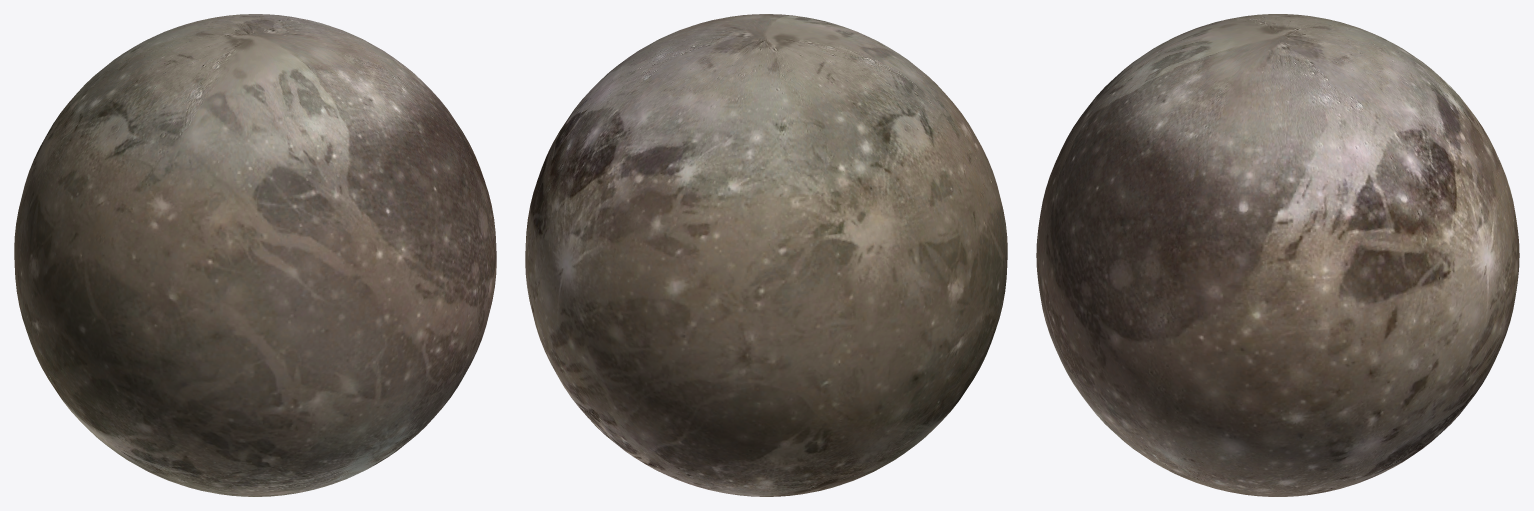
File: ganymede.glb
3 renders of one model, left to right at view 1: azimuth 30°, elevation 25°; view 2: azimuth 150°, elevation 25°; view 3: azimuth 270°, elevation 25°, orthographic.
Parts seen in each view (by area): view 1: Object_2; view 2: Object_2; view 3: Object_2.
Boxes of the visible parts, x1,y1,x2,y2 form: Object_2: (14,14,496,496); Object_2: (525,14,1007,496); Object_2: (1036,14,1519,496).
Size of the model in its own units: 1.19 by 1.19 by 1.19.
Materials: 1 (1 with a texture image).
